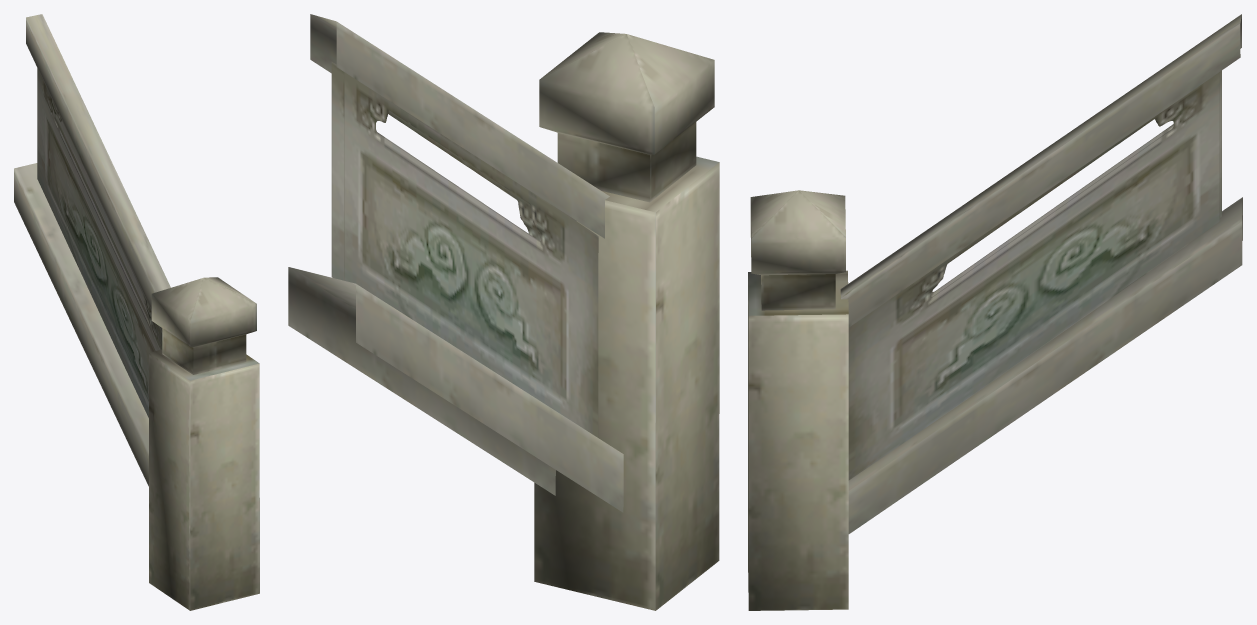
File: environment_common_Stonewall_004_c.FBX
The picture shows the model from 3 angles, left to right: view 1: azimuth 30°, elevation 25°; view 2: azimuth 150°, elevation 25°; view 3: azimuth 270°, elevation 25°; orthographic projection. The views are drawn at different scales.
Parts seen in each view (by area): view 1: environment_common_Stonewall_004_c; view 2: environment_common_Stonewall_004_c; view 3: environment_common_Stonewall_004_c.
Boxes of the visible parts, x1=… form: environment_common_Stonewall_004_c: x1=14, y1=14, x2=259, y2=610; environment_common_Stonewall_004_c: x1=288, y1=14, x2=719, y2=610; environment_common_Stonewall_004_c: x1=748, y1=14, x2=1242, y2=610.
Size of the model in its own units: 27.12 by 160 by 126.
